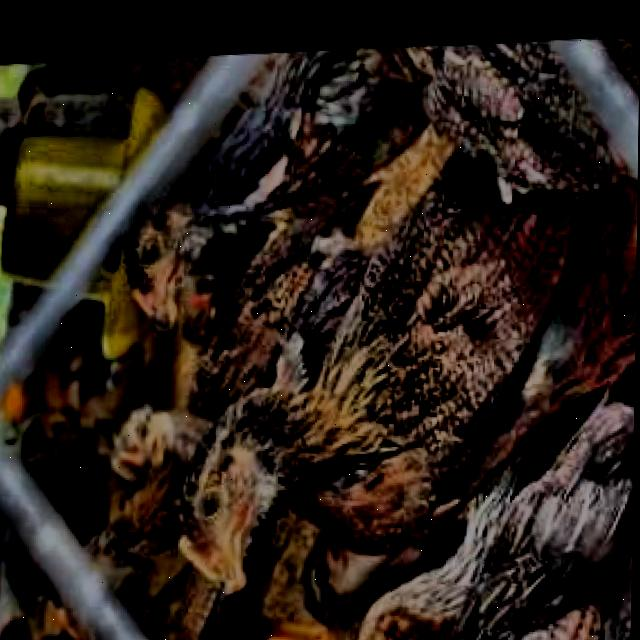Healthy: (197, 462, 245, 522)
